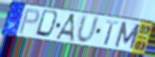A: (55, 13, 77, 43)
D: (34, 9, 61, 40)
M: (113, 21, 142, 51)
P: (17, 8, 41, 35)
T: (103, 19, 121, 46)
U: (75, 14, 101, 45)
